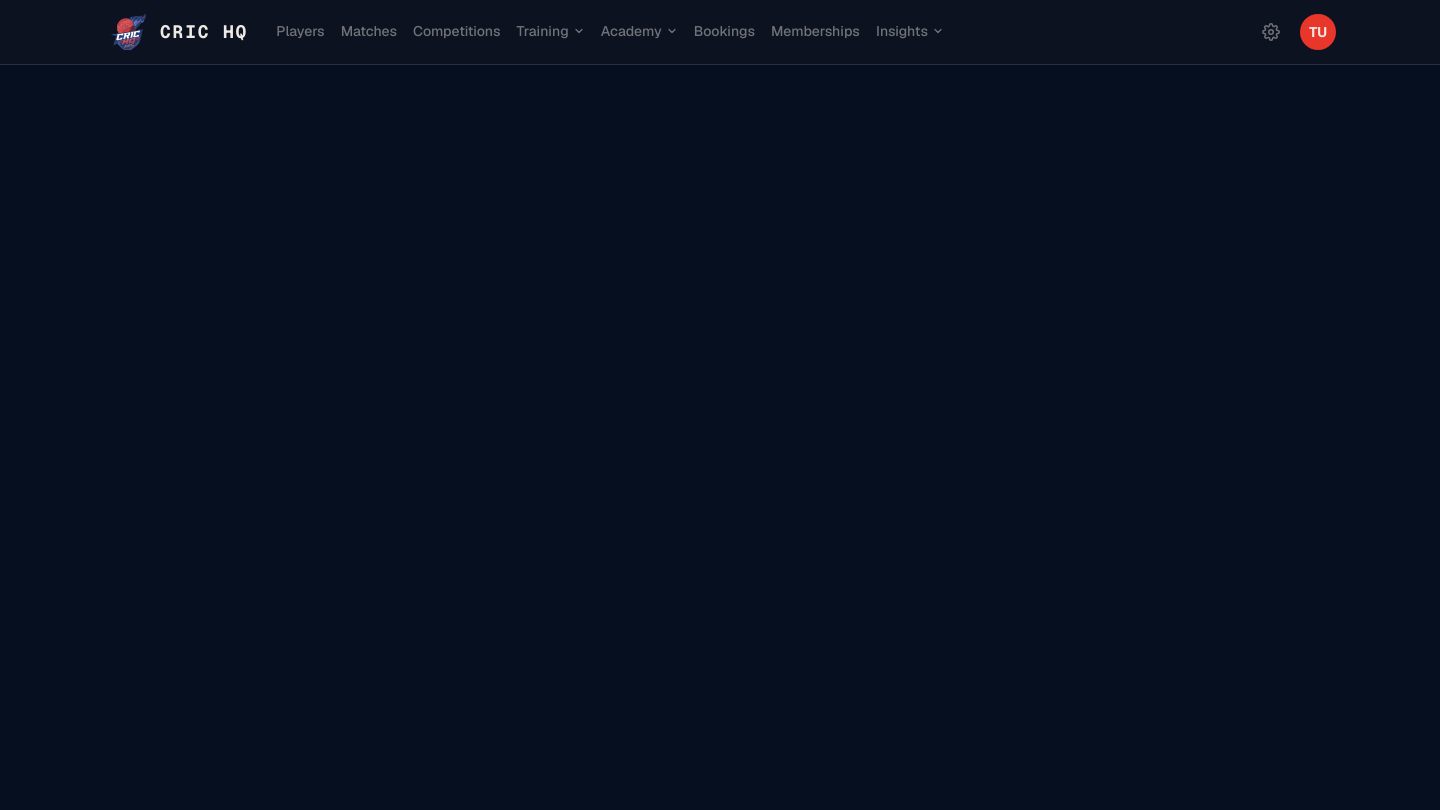
Test: NavBar › Admin Center is reachable only by a platform_admin, has an accessible name distinct from the bare gear icon, and groups its items into labeled sections
The width and height of the screenshot is (1440, 810).
Expected: the field labelled "Admin Center" is not shown
Click the button named "Admin Center".
click(1271, 32)  # box [1254,15,1288,49]
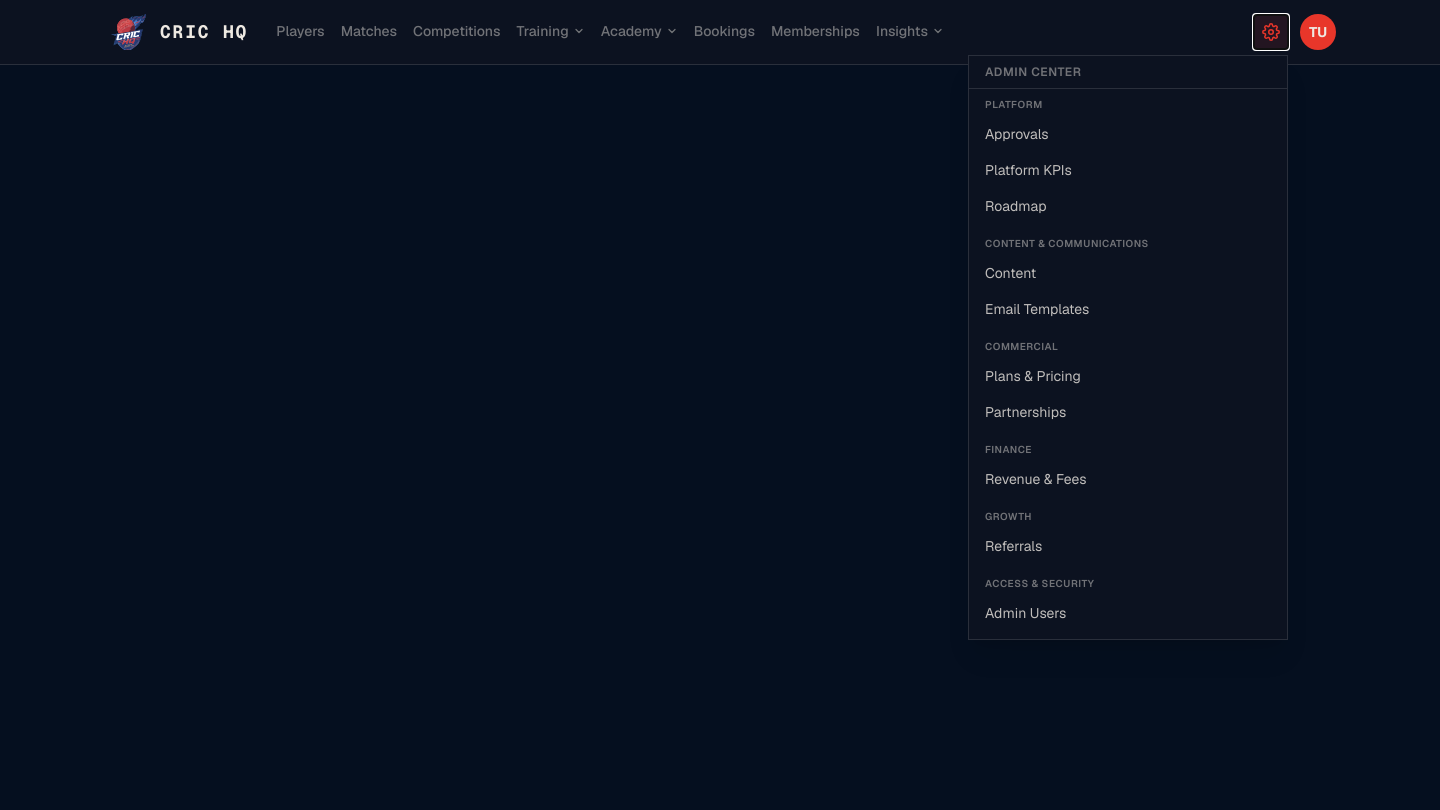
Expected: the text "Platform" is shown, [985,98,1043,111]
Expected: the text "Content & Communications" is shown, [985,237,1149,250]
Expected: the text "Commercial" is shown, [985,340,1058,353]
